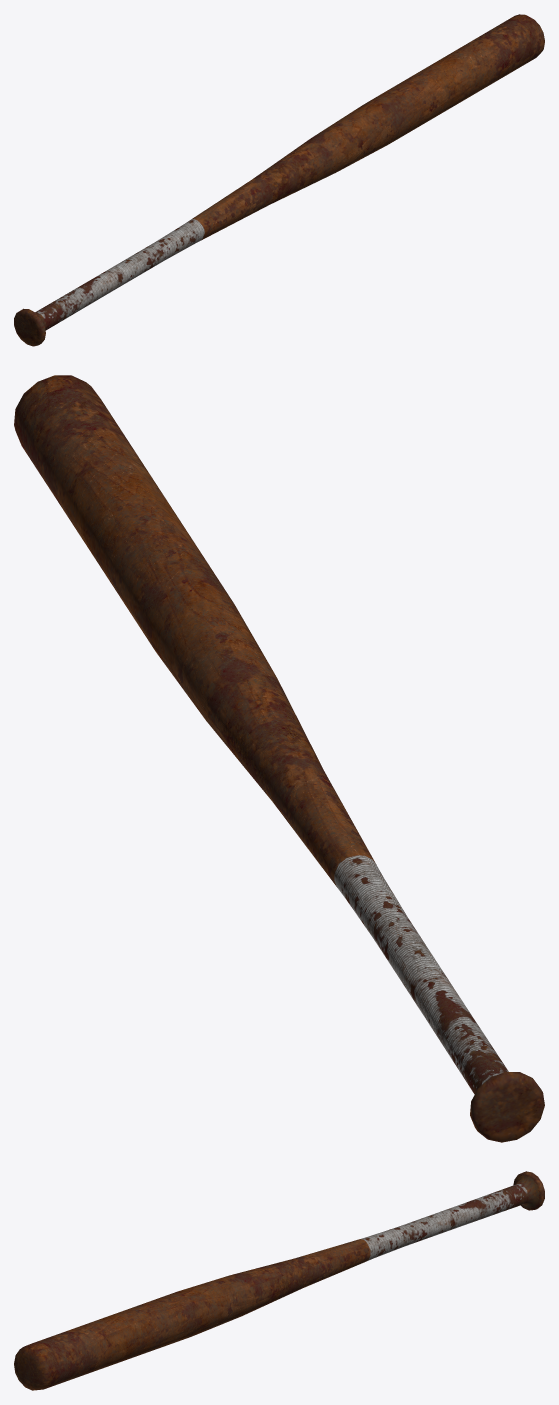
Rendered from Anim_idle_bate_objetos.0022.obj.
The picture shows the model from 3 angles, top to bottom: view 1: azimuth 90°, elevation 25°; view 2: azimuth 150°, elevation 25°; view 3: azimuth 270°, elevation 25°; orthographic projection. The views are drawn at different scales.
Visible parts, largest first — view 1: Bate1; view 2: Bate1; view 3: Bate1.
Part boxes in pixels (x1,y1,x2,y2): Bate1: (14,14,544,346); Bate1: (14,375,544,1142); Bate1: (14,1171,544,1390).
Bounding box in the file's own units: 4.13 × 0.7475 × 3.74.
